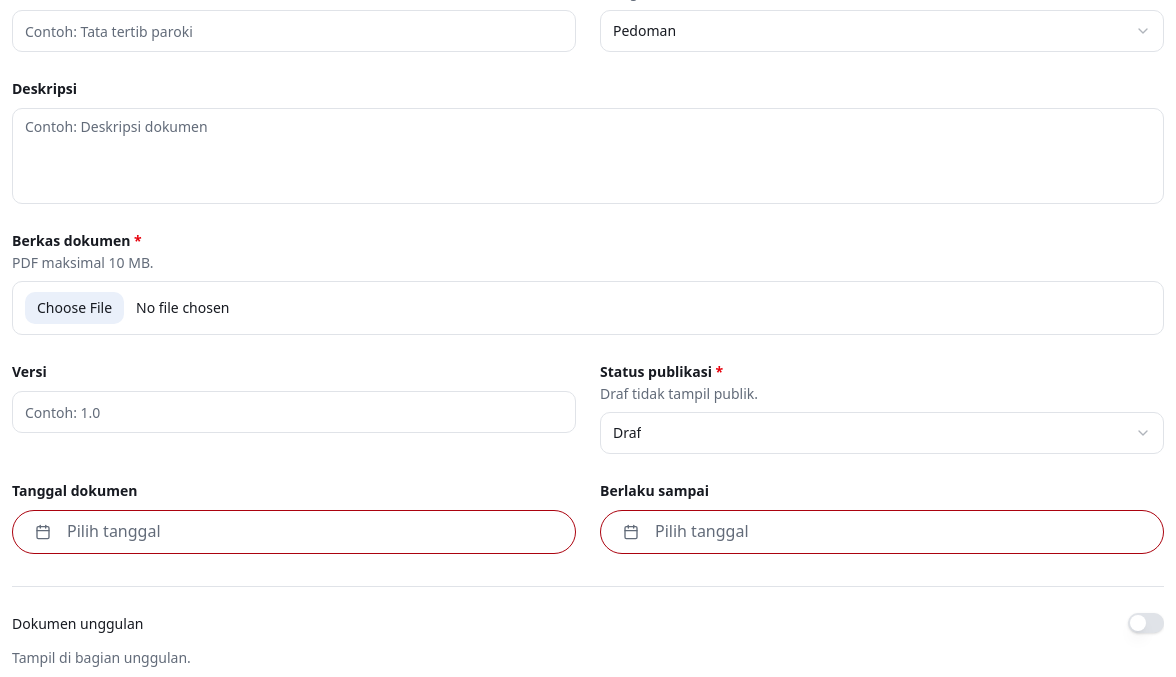
Test case: DocumentForm › changes the submit label when the status changes to published
Click the dropdown named "Status publikasi" at (627, 432), box [600,412,1164,454]
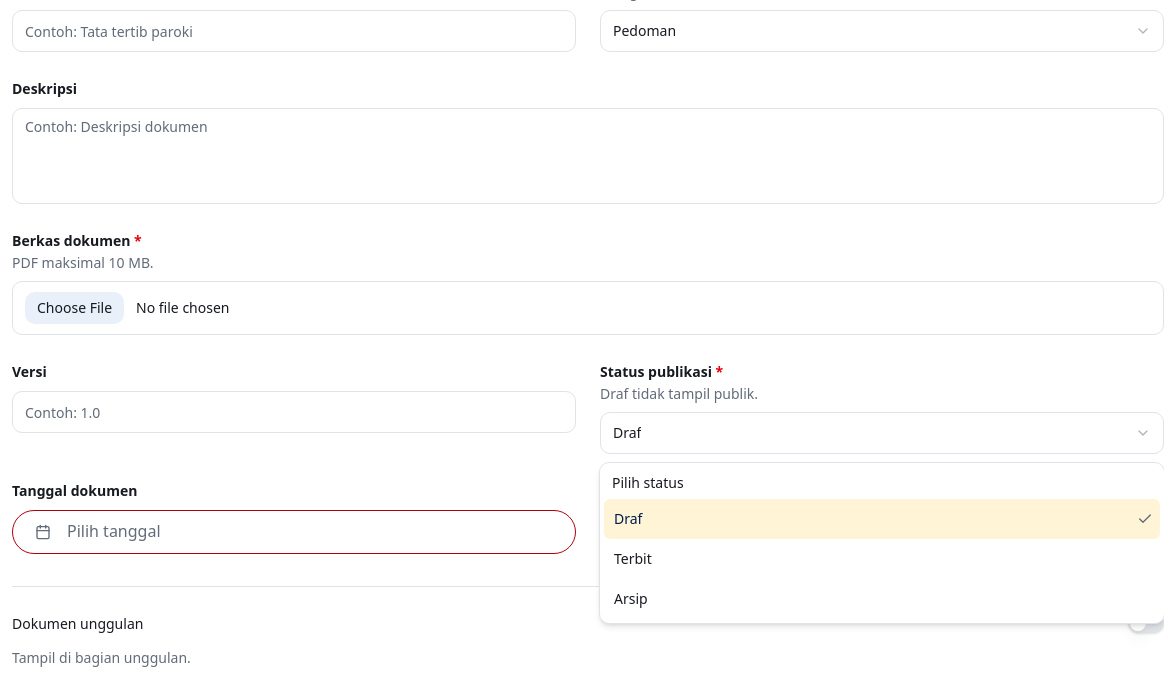
Click the option "Terbit" at (633, 558), box [614,549,652,568]
(page scrolled)
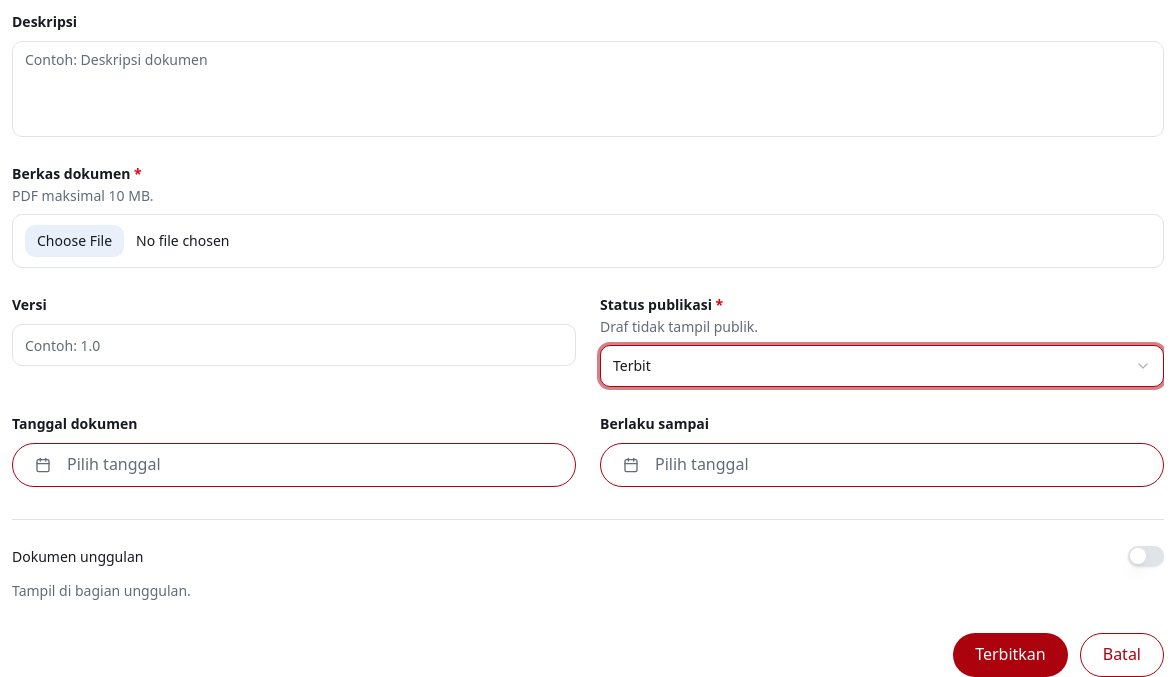
Check: the button "Terbitkan" is shown, box [953,633,1068,676]
